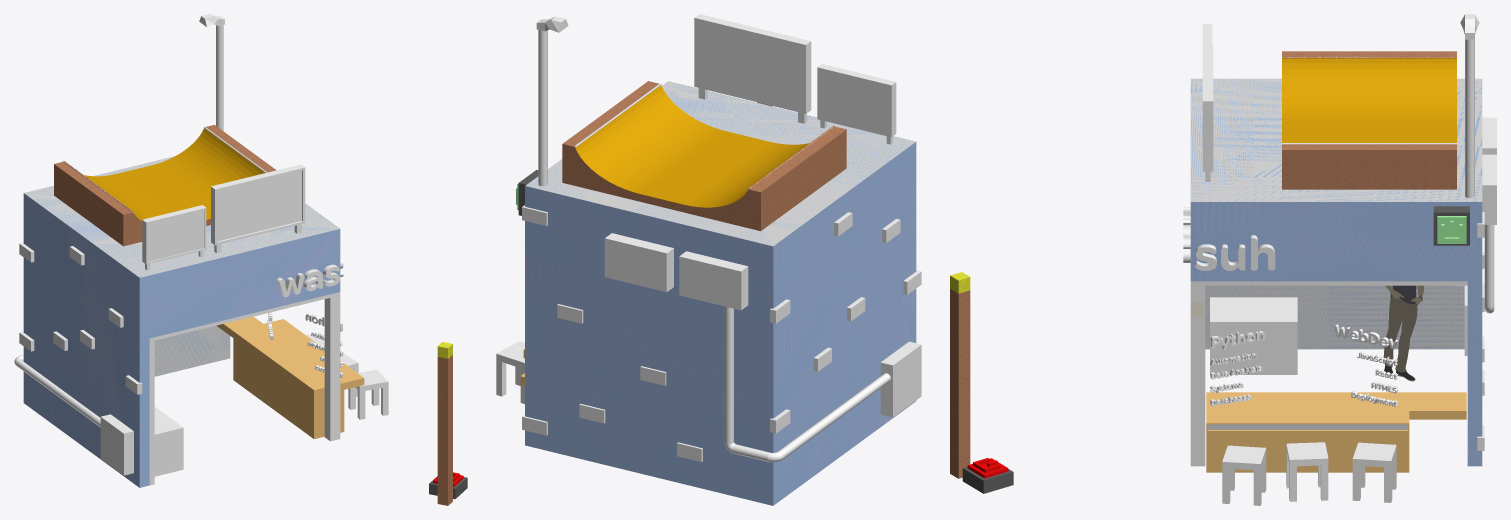
Rendered from hut8.glb.
The picture shows the model from 3 angles, left to right: view 1: azimuth 30°, elevation 25°; view 2: azimuth 150°, elevation 25°; view 3: azimuth 270°, elevation 25°; orthographic projection. The views are drawn at different scales.
Visible parts, largest first — view 1: group_0.001, group_7, group_10.002, group_0.002, group_10.001, group_34.001, group_37, group_0, group_64, group_52, group_15, group_55 (+8 smaller); view 2: group_0.001, group_10.002, group_0.002, group_10.001, group_34, group_12, group_39, group_40, group_42, group_41, group_45, group_32; view 3: group_0.001, group_10.002, group_0.002, group_7, group_0, group_10.001, group_55, group_52, group_64, group_62, group_32, group_4 (+11 smaller).
Boxes of the visible parts, x1,y1,x2,y2 form: group_0.001: (23, 193, 340, 487); group_7: (233, 319, 364, 439); group_10.002: (84, 128, 264, 220); group_0.002: (24, 156, 339, 277); group_10.001: (54, 125, 276, 246); group_34.001: (217, 170, 302, 242); group_37: (217, 171, 301, 240); group_0: (154, 325, 230, 376); group_64: (324, 292, 340, 441); group_52: (437, 355, 452, 505); group_15: (148, 210, 204, 261); group_55: (154, 406, 183, 476); group_0.001: (525, 142, 916, 505); group_10.002: (575, 85, 809, 207); group_0.002: (525, 81, 915, 246); group_10.001: (562, 81, 846, 231); group_34: (694, 14, 811, 113); group_12: (817, 64, 896, 137); group_39: (724, 306, 890, 462); group_40: (604, 233, 673, 292); group_42: (679, 251, 748, 310); group_41: (880, 341, 921, 417); group_45: (538, 30, 547, 186); group_32: (496, 341, 524, 403); group_0.001: (1190, 202, 1482, 466); group_10.002: (1282, 58, 1456, 142); group_0.002: (1190, 78, 1482, 201); group_7: (1206, 392, 1409, 472); group_0: (1205, 285, 1464, 349); group_10.001: (1282, 51, 1456, 189); group_55: (1210, 297, 1297, 374); group_52: (950, 289, 970, 478); group_64: (1190, 281, 1205, 466); group_62: (1222, 445, 1266, 505); group_32: (1352, 442, 1396, 502); group_4: (1286, 442, 1328, 501).
Size of the model in its own units: 4.18 by 5.03 by 5.71.
23 materials, 4 textured.
